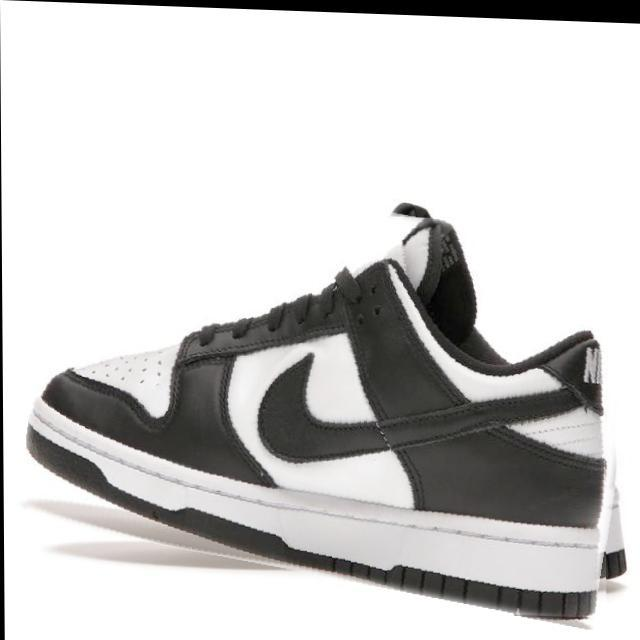J1_ShoeLogo: (25, 200, 627, 620)
J1_StitchPattern: (25, 407, 605, 620), (66, 264, 397, 418), (252, 352, 604, 470), (178, 256, 428, 364), (371, 379, 595, 458), (327, 555, 597, 619), (182, 282, 351, 360), (65, 341, 180, 424), (231, 297, 328, 338), (81, 348, 171, 391), (580, 342, 603, 387)
